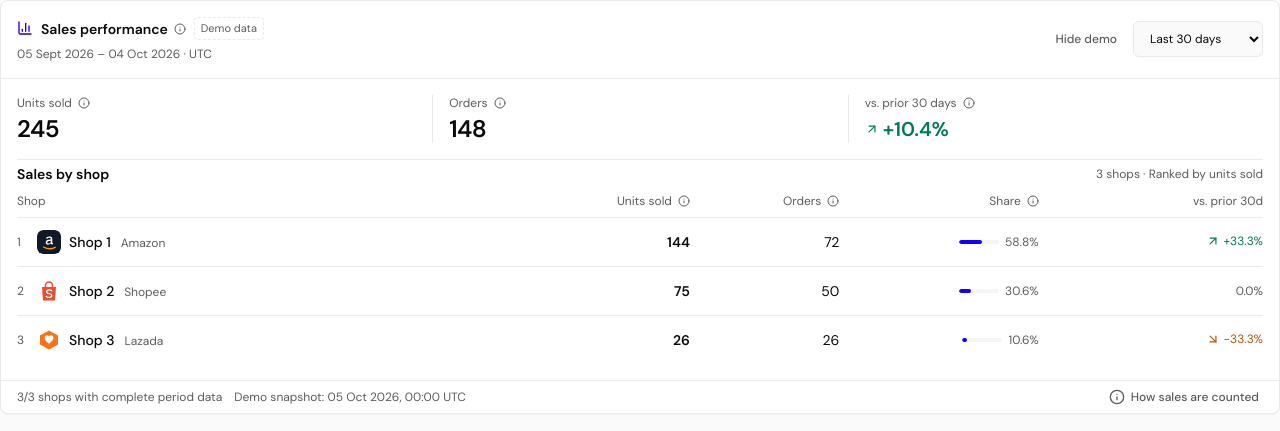
Test: ProductSalesPerformance › keeps shop headings and row comparison labels plain while retaining metric help
expect the 2nd button "Units sold" is shown: met, box [617, 193, 690, 209]
expect the button "Orders" below "3 shops · Ranked by units sold" is shown: met, box [783, 193, 839, 209]
Select "Last 7 days" in the dropdown named "Sales period" at (1198, 39), box [1133, 21, 1263, 57]
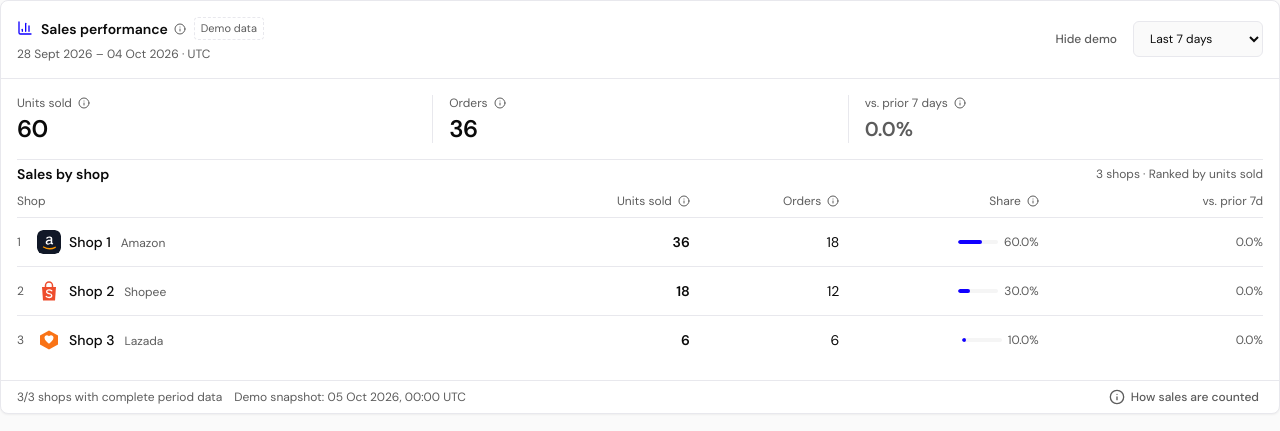
expect the column heading "vs. prior 7d" is shown: met, box [1039, 184, 1263, 218]
